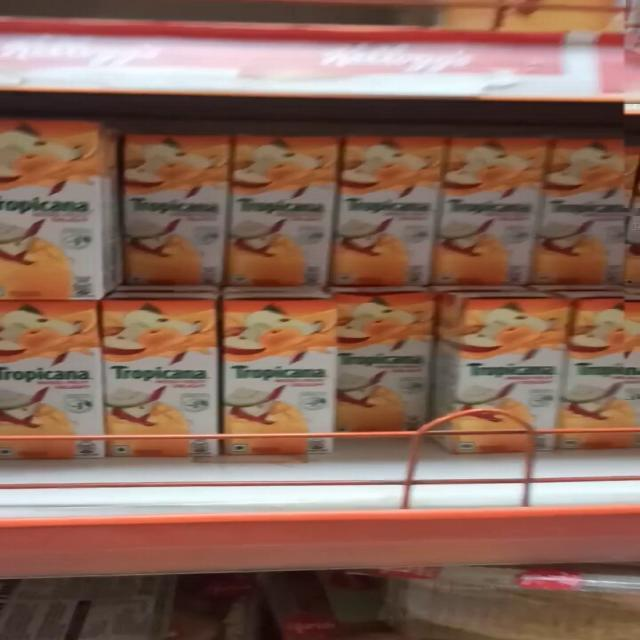Tropicana: (223, 302, 339, 456), (448, 296, 562, 452), (105, 298, 213, 462), (228, 132, 344, 284), (340, 134, 442, 292), (0, 305, 102, 461), (125, 134, 225, 280), (440, 136, 538, 282), (542, 142, 632, 284)
